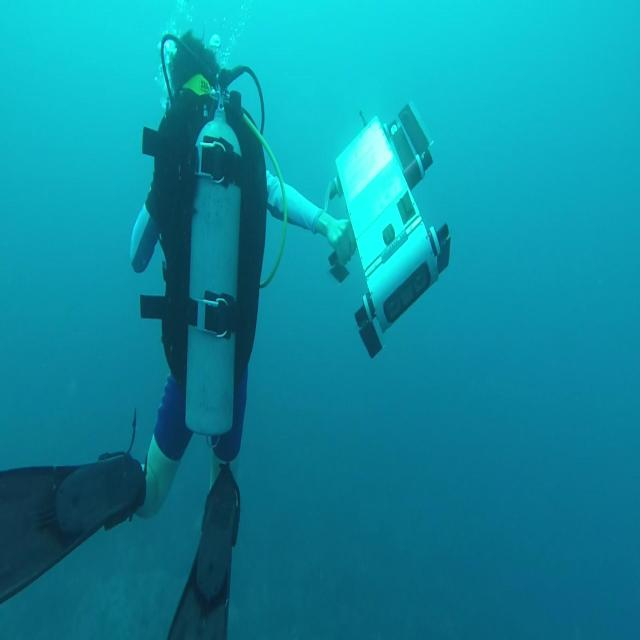human: (124, 28, 357, 636)
